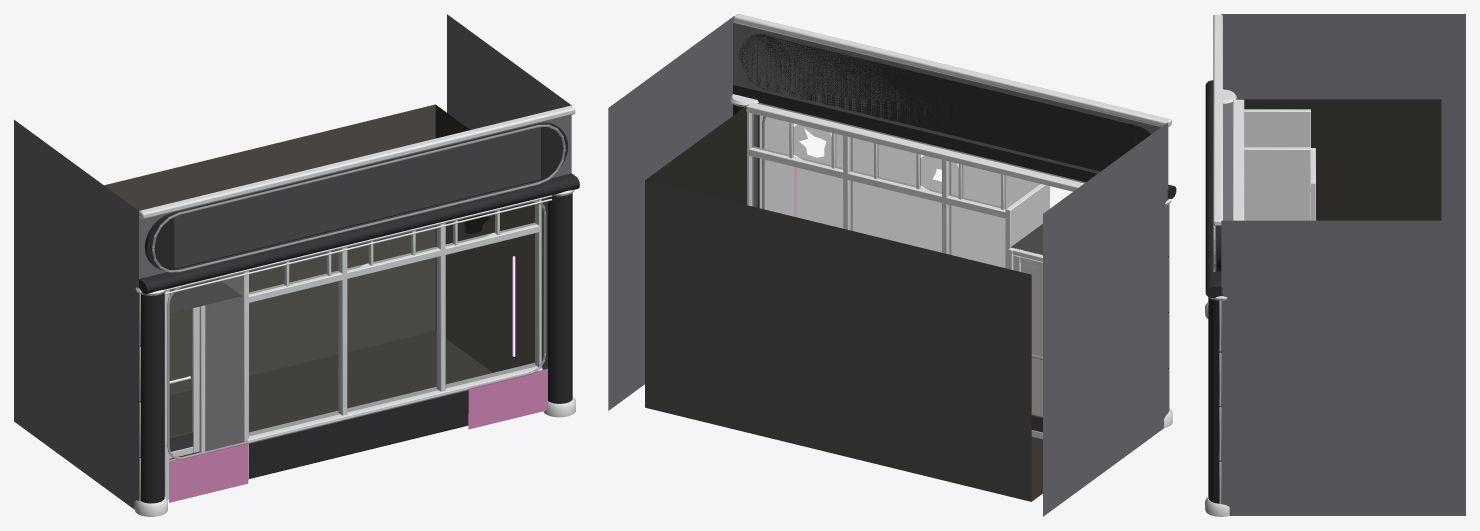
File: retro_shop_dark_6a.glb
3 views of the same model, side by side, from view 1: azimuth 30°, elevation 25°; view 2: azimuth 150°, elevation 25°; view 3: azimuth 270°, elevation 25° (orthographic). The views are drawn at different scales.
Parts seen in each view (by area): view 1: retro_shop_dark_6a; view 2: retro_shop_dark_6a; view 3: retro_shop_dark_6a.
Part boxes in pixels (x1,y1,x2,y2): retro_shop_dark_6a: [14, 14, 579, 516]; retro_shop_dark_6a: [608, 14, 1176, 516]; retro_shop_dark_6a: [1205, 14, 1465, 516].
Bounding box in the file's own units: 6.06 × 4 × 3.2.
